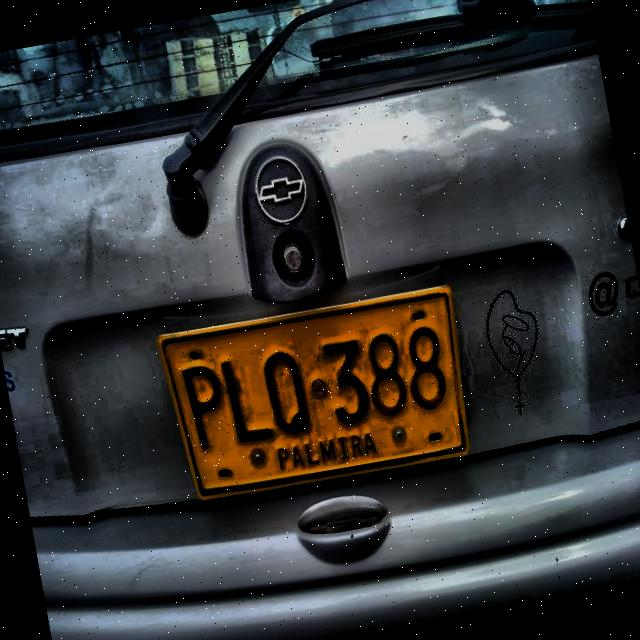plate: (161, 292, 464, 494)
